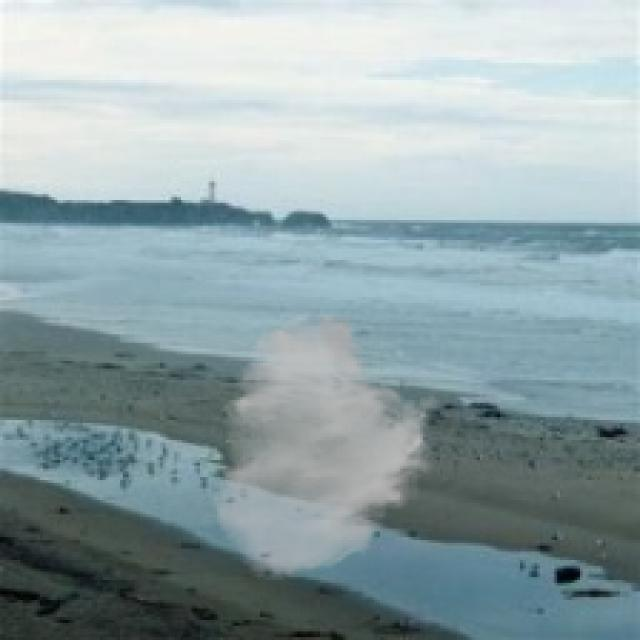smoke: (211, 308, 440, 583)
